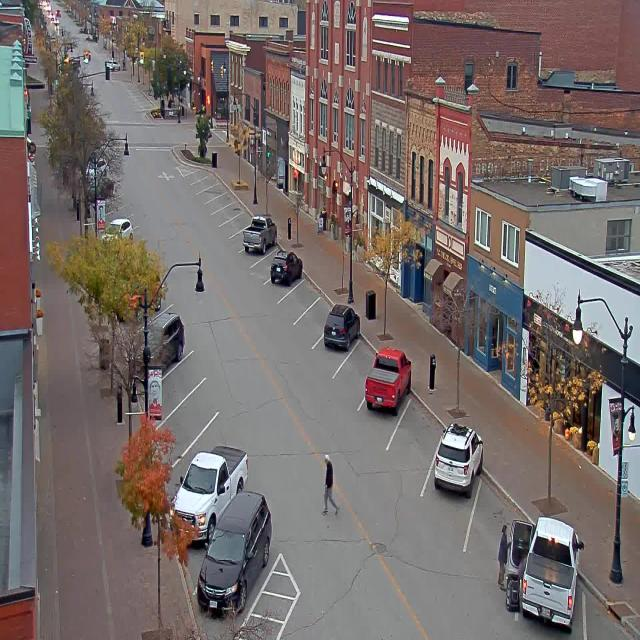available: (459, 472, 528, 570), (381, 395, 443, 474), (169, 408, 237, 469), (576, 589, 640, 640), (168, 373, 227, 419), (164, 338, 212, 392), (334, 346, 377, 398), (294, 300, 332, 349), (277, 277, 317, 318), (249, 241, 278, 285), (228, 228, 250, 256), (221, 212, 250, 232), (207, 194, 229, 215), (213, 206, 237, 223), (193, 175, 217, 192), (200, 186, 222, 202), (186, 168, 208, 181)
occupied: (196, 489, 272, 617), (170, 444, 248, 547), (518, 515, 584, 630), (434, 421, 484, 498), (364, 346, 412, 414), (143, 307, 185, 364), (323, 302, 360, 351), (242, 214, 277, 254), (270, 250, 303, 285)
